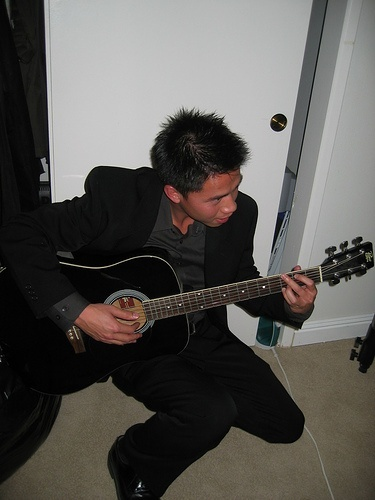head: (151, 110, 248, 228)
person: (8, 105, 326, 500)
